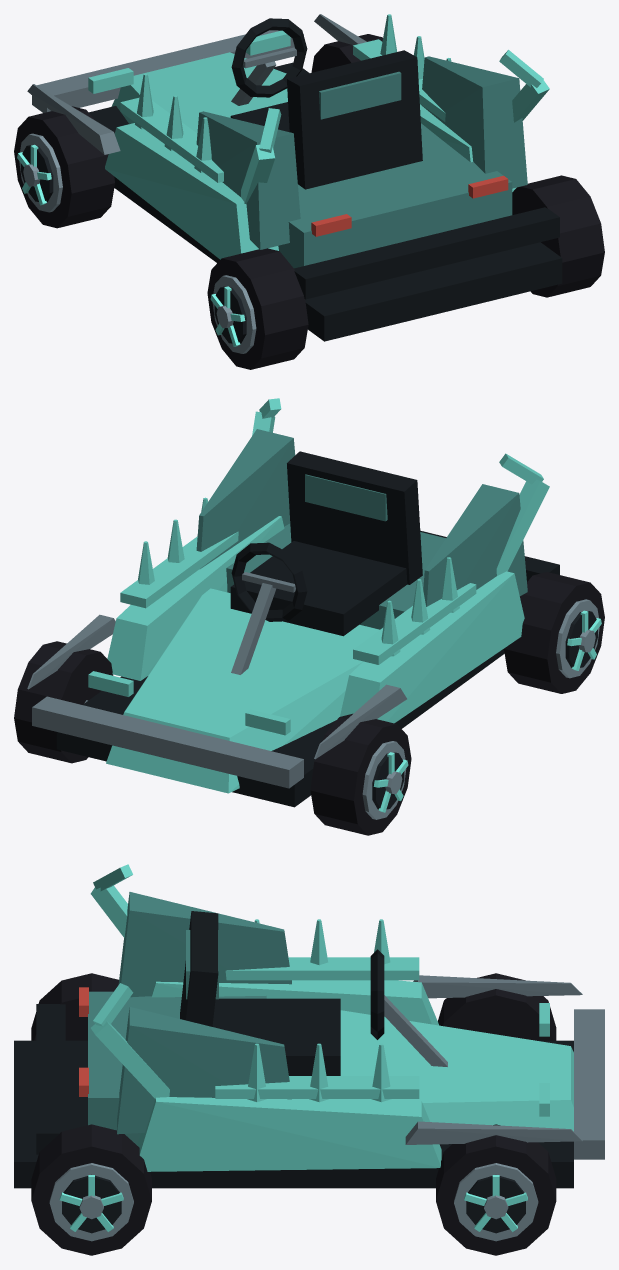
The model's file is kart.glb.
3 views of the same model, one above another, from view 1: azimuth 30°, elevation 25°; view 2: azimuth 150°, elevation 25°; view 3: azimuth 270°, elevation 25° (orthographic). The views are drawn at different scales.
Visible parts, largest first — view 1: chassis, wheel-rear-left, wheel-front-left, wheel-rear-right, wheel-front-right; view 2: chassis, wheel-rear-left, wheel-front-left, wheel-front-right; view 3: chassis, wheel-rear-right, wheel-front-right, wheel-front-left, wheel-rear-left.
Boxes of the visible parts, x1,y1,x2,y2 form: chassis: (27, 14, 562, 341); wheel-rear-left: (207, 248, 308, 369); wheel-front-left: (14, 106, 114, 228); wheel-rear-right: (512, 175, 604, 297); wheel-front-right: (311, 34, 382, 72); chassis: (27, 398, 559, 807); wheel-rear-left: (504, 572, 604, 693); wheel-front-left: (310, 713, 411, 835); wheel-front-right: (14, 641, 113, 763); chassis: (14, 864, 604, 1188); wheel-rear-right: (31, 1124, 151, 1255); wheel-front-right: (436, 1124, 556, 1255); wheel-front-left: (438, 973, 556, 1040); wheel-rear-left: (31, 973, 118, 1040).
Size of the model in its own units: 2.28 by 1.38 by 3.04.
